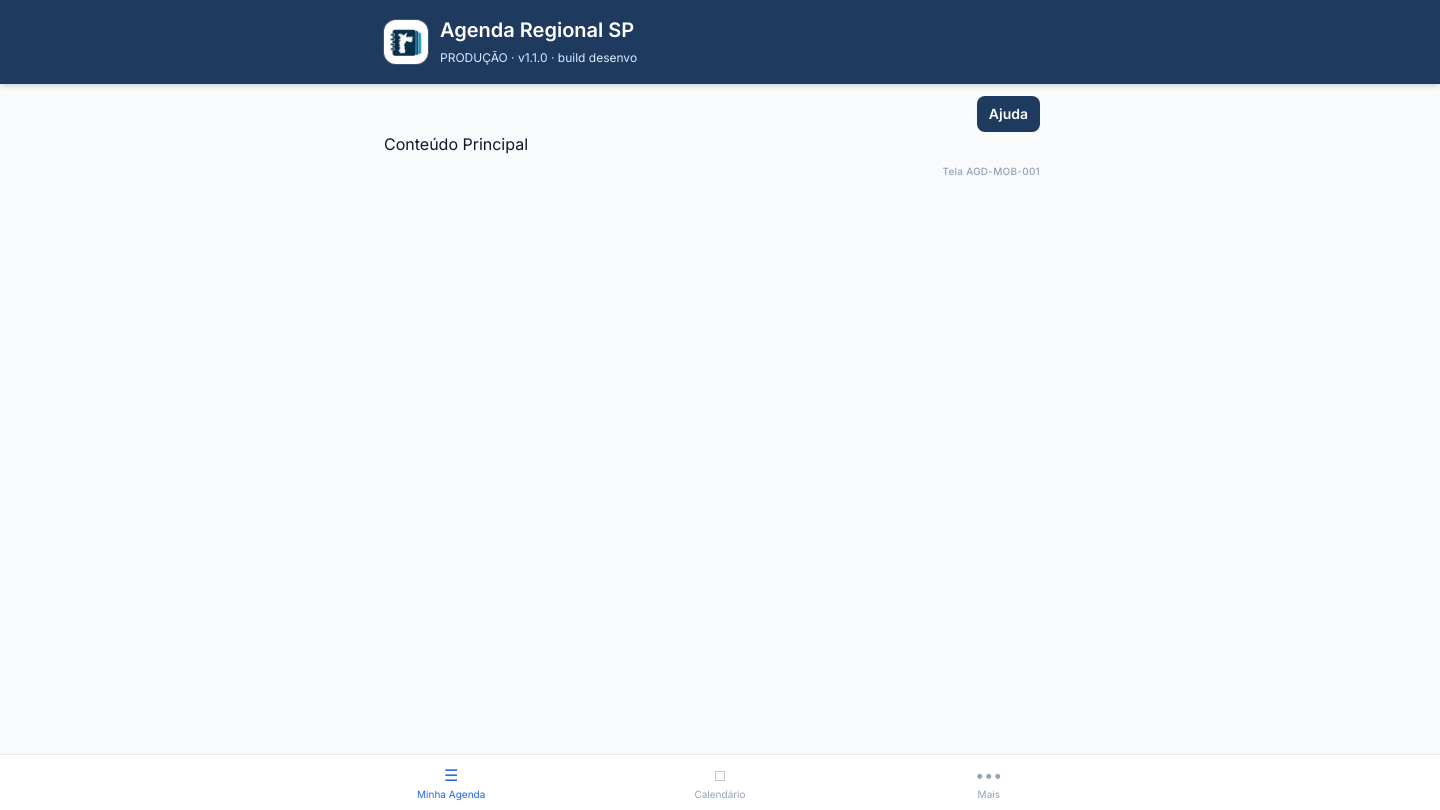
Test case: Navegação e Visibilidade de Permissões — S12 Frontend › 5. Membro com múltiplas funções (Portaria + Relatórios) vê Portaria e Relatórios, mas NÃO vê Auditoria
This screenshot has width=1440, height=810.
What coordinates should you click on to do the following:
click the button "••• Mais"
I would click on:
 (989, 782)
Its box is [922,755,1056,809].
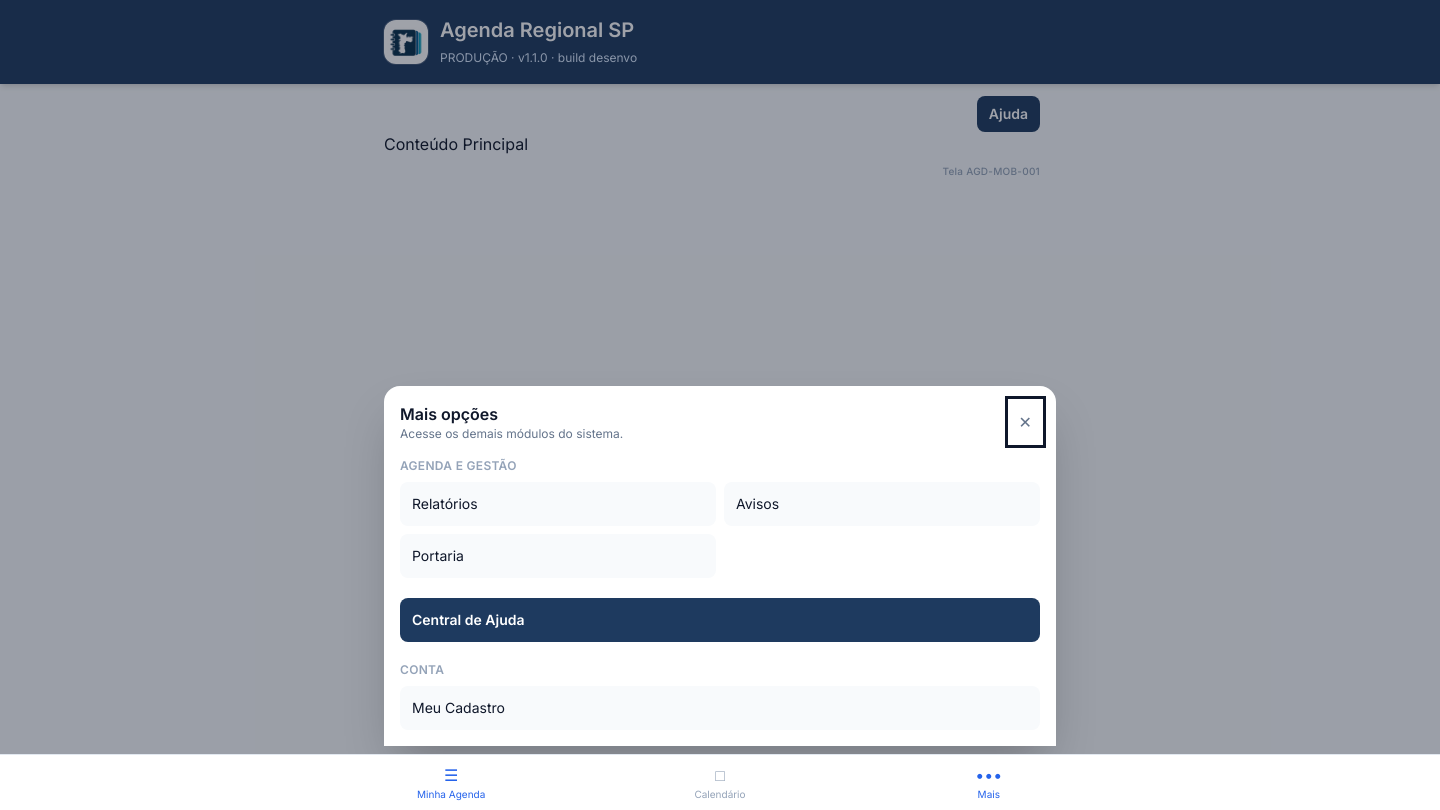
Result: the button "Portaria" is shown at [400,534,716,578]
Result: the button "Relatórios" is shown at [400,482,716,526]
